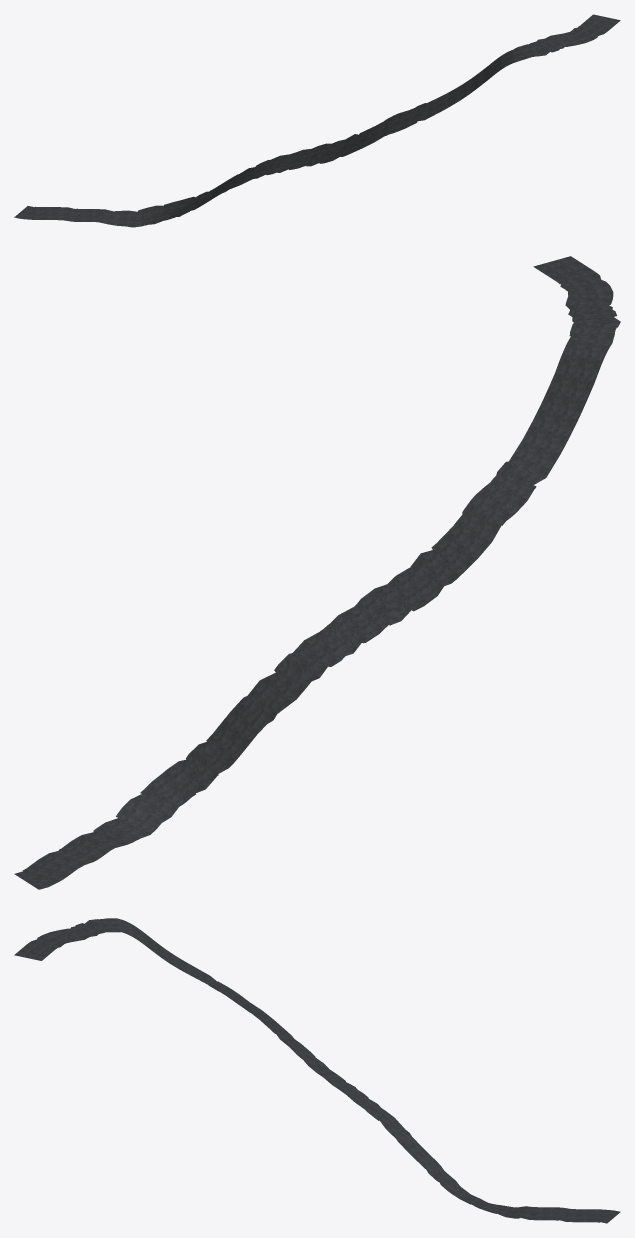
The model's file is RD-ROAD-004.obj.
3 renders of one model, top to bottom at view 1: azimuth 90°, elevation 25°; view 2: azimuth 150°, elevation 25°; view 3: azimuth 270°, elevation 25°, orthographic. The views are drawn at different scales.
Visible parts, largest first — view 1: RD-ROAD-004; view 2: RD-ROAD-004; view 3: RD-ROAD-004.
Part boxes in pixels (box(x1,y1,x2,y2)): RD-ROAD-004: box(14, 14, 620, 227); RD-ROAD-004: box(14, 256, 620, 889); RD-ROAD-004: box(14, 918, 620, 1223).
Size of the model in its own units: 49.77 by 65.19 by 157.
Materials: 1 (1 with a texture image).
